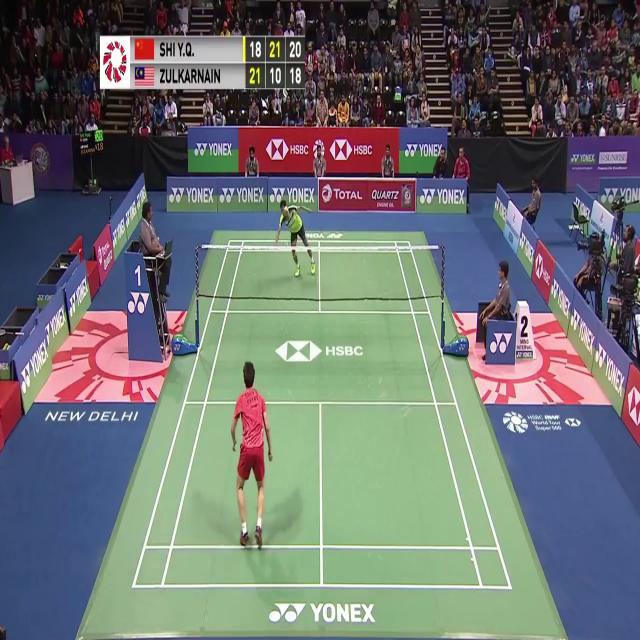Shuttlecock: (283, 236, 289, 248)
